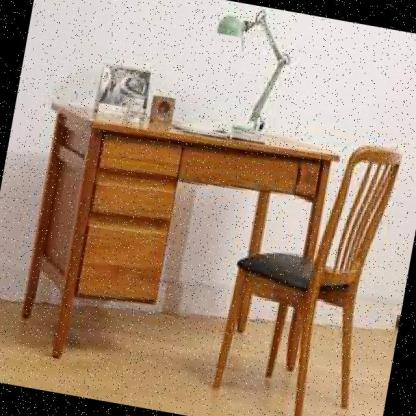Table: (0, 84, 349, 409)
